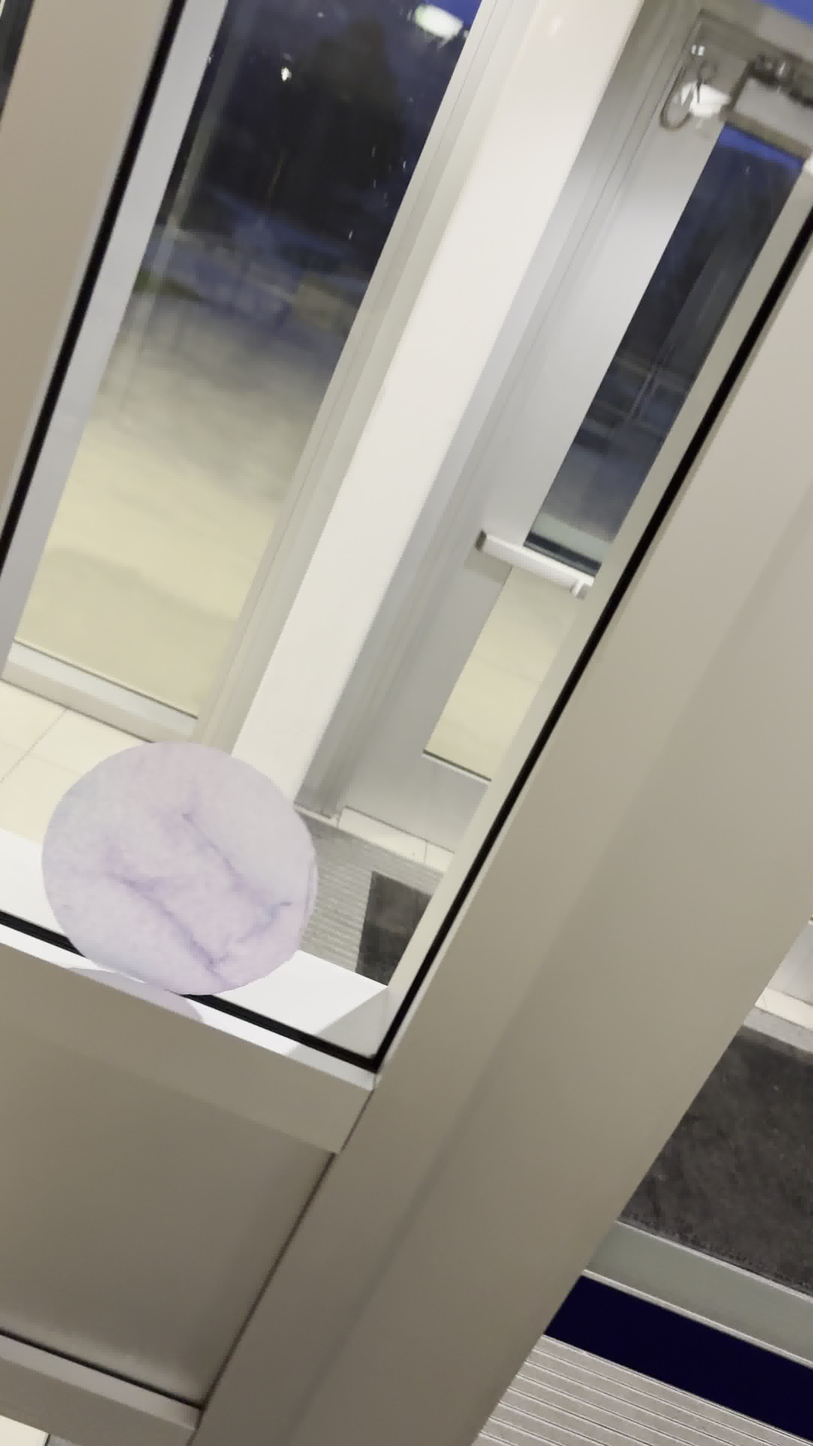Target: (37, 738, 321, 997)
